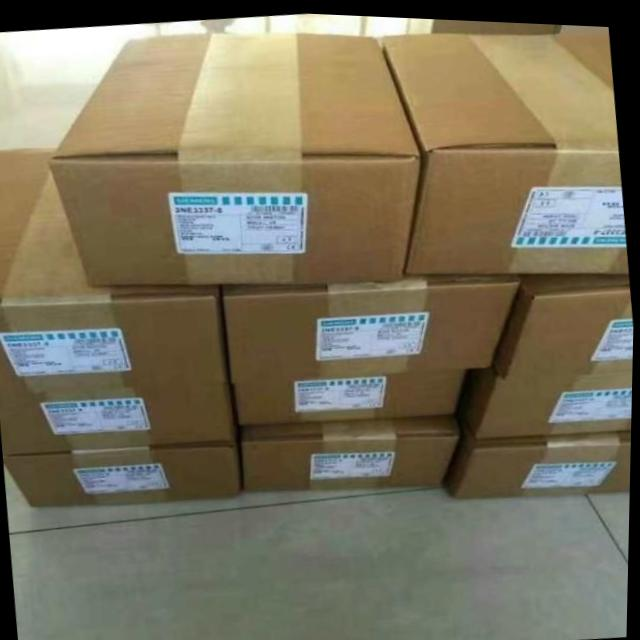box: (49, 32, 421, 286), (374, 26, 628, 277), (0, 147, 229, 396), (218, 268, 521, 386), (232, 407, 460, 488), (0, 386, 235, 456), (4, 440, 245, 507), (489, 269, 635, 372), (229, 363, 467, 422), (446, 425, 633, 494), (456, 362, 634, 433)
